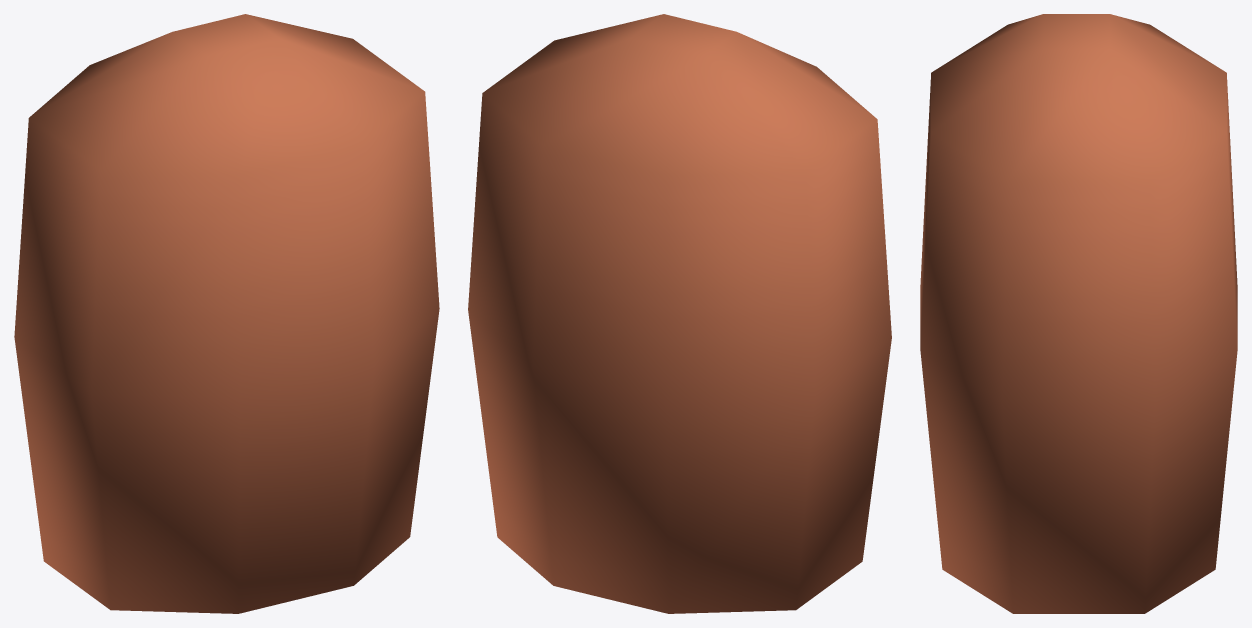
File: Potato.glb
The picture shows the model from 3 angles, left to right: view 1: azimuth 30°, elevation 25°; view 2: azimuth 150°, elevation 25°; view 3: azimuth 270°, elevation 25°; orthographic projection.
Parts seen in each view (by area): view 1: Potato; view 2: Potato; view 3: Potato.
Boxes of the visible parts, box(x1,y1,x2,y2) form: Potato: box(14, 14, 439, 613); Potato: box(468, 14, 891, 613); Potato: box(920, 14, 1237, 613).
Size of the model in its own units: 0.5357 by 0.8101 by 0.4284.
Materials: 1 (1 with a texture image).
